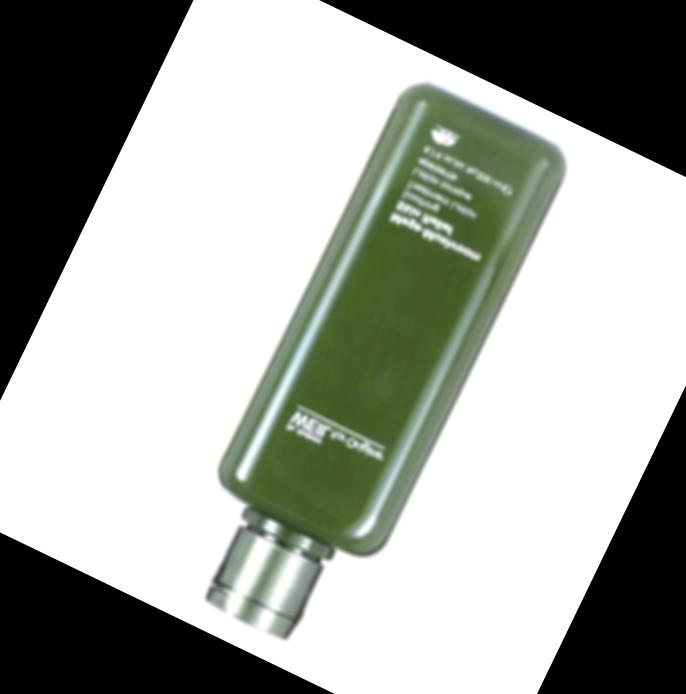cosmetic: (156, 68, 579, 670)
